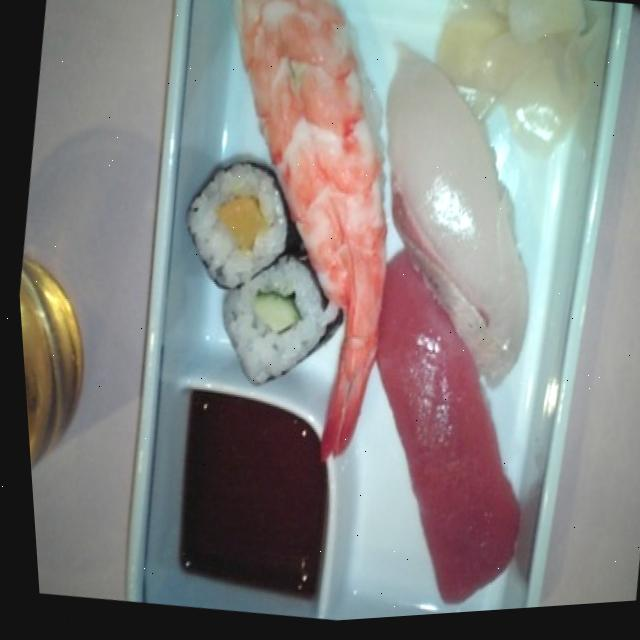寿司卷物: (157, 0, 436, 476), (326, 241, 558, 623), (336, 37, 569, 407), (196, 240, 338, 401), (162, 150, 299, 301)
